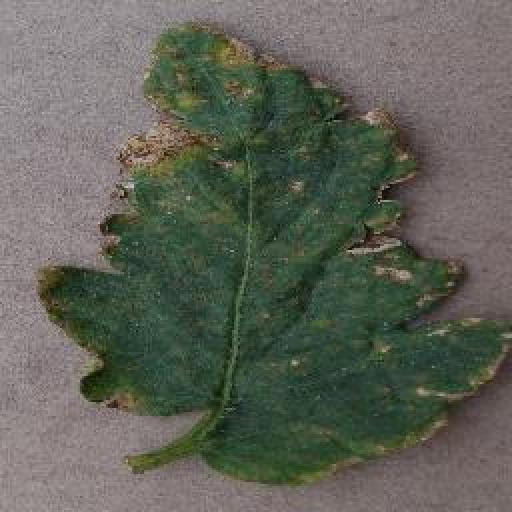Bacterial Spot: (33, 23, 512, 488)
